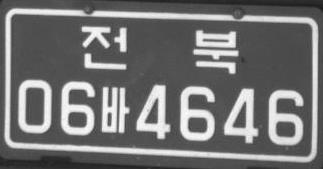0: (16, 78, 52, 134)
4: (223, 85, 259, 143), (135, 82, 170, 140)
6: (179, 84, 215, 140), (268, 89, 303, 146), (60, 79, 95, 135)
바: (99, 85, 131, 133)
전북_D: (80, 24, 238, 74)
